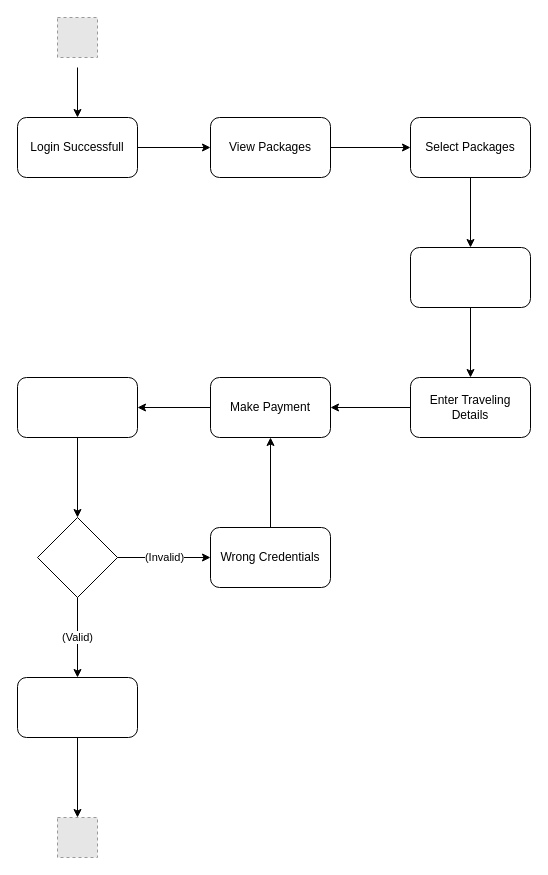
The diagram is 548 pixels wide and 875 high, and some of its shapes have lost their labels. Grey dashed boxes stand in for pictures. Each missing label, with the box of its shape:
Book Package: (410, 246, 530, 308)
Enter Payment details: (16, 376, 138, 438)
Tour Booked Successfully: (16, 676, 138, 738)
